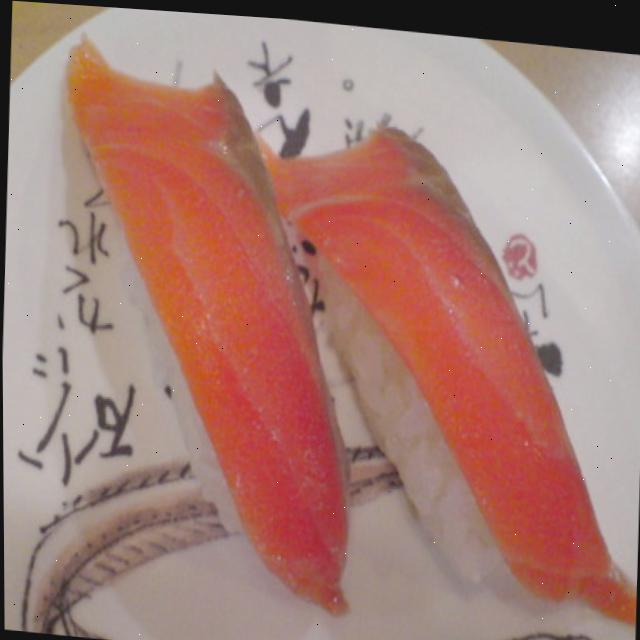寿司卷物: (258, 111, 640, 618), (49, 41, 373, 611)
